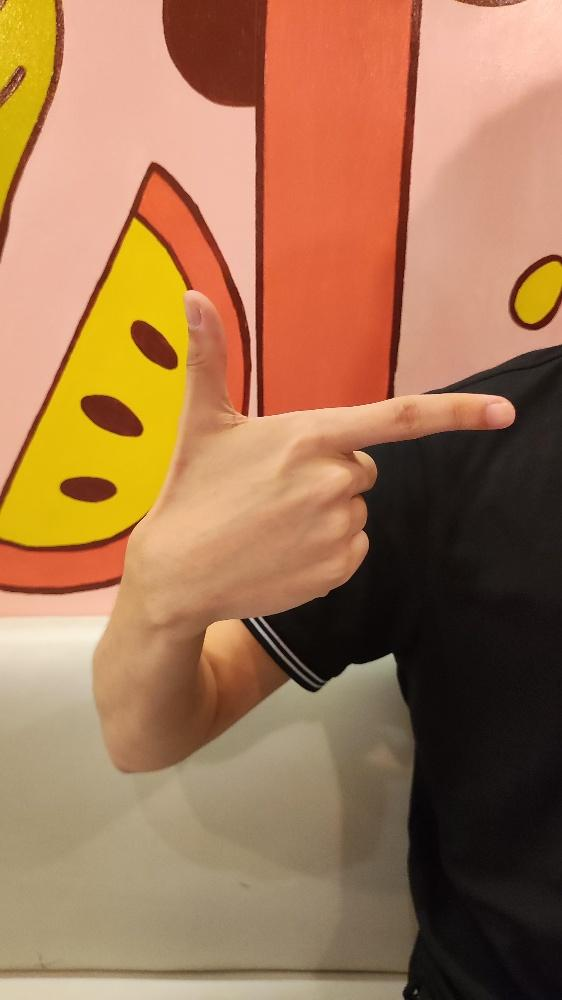g: (115, 287, 516, 621)
